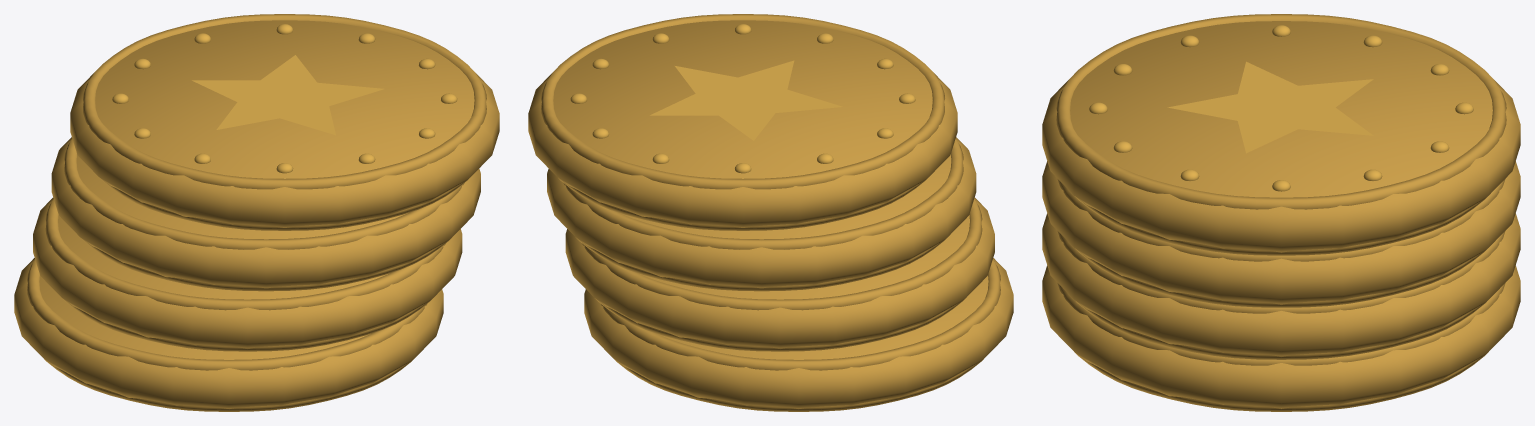
File: coins.glb
3 views of the same model, side by side, from view 1: azimuth 30°, elevation 25°; view 2: azimuth 150°, elevation 25°; view 3: azimuth 270°, elevation 25° (orthographic). The views are drawn at different scales.
Visible parts, largest first — view 1: Crafted_brass, Crafted_gold; view 2: Crafted_brass, Crafted_gold; view 3: Crafted_brass, Crafted_gold.
Part boxes in pixels (x1,y1,x2,y2): Crafted_brass: (14, 14, 499, 411); Crafted_gold: (112, 24, 457, 173); Crafted_brass: (528, 14, 1013, 411); Crafted_gold: (570, 24, 915, 173); Crafted_brass: (1042, 14, 1520, 411); Crafted_gold: (1089, 25, 1473, 191).
Bounding box in the file's own units: 0.529 × 0.2599 × 0.46.
